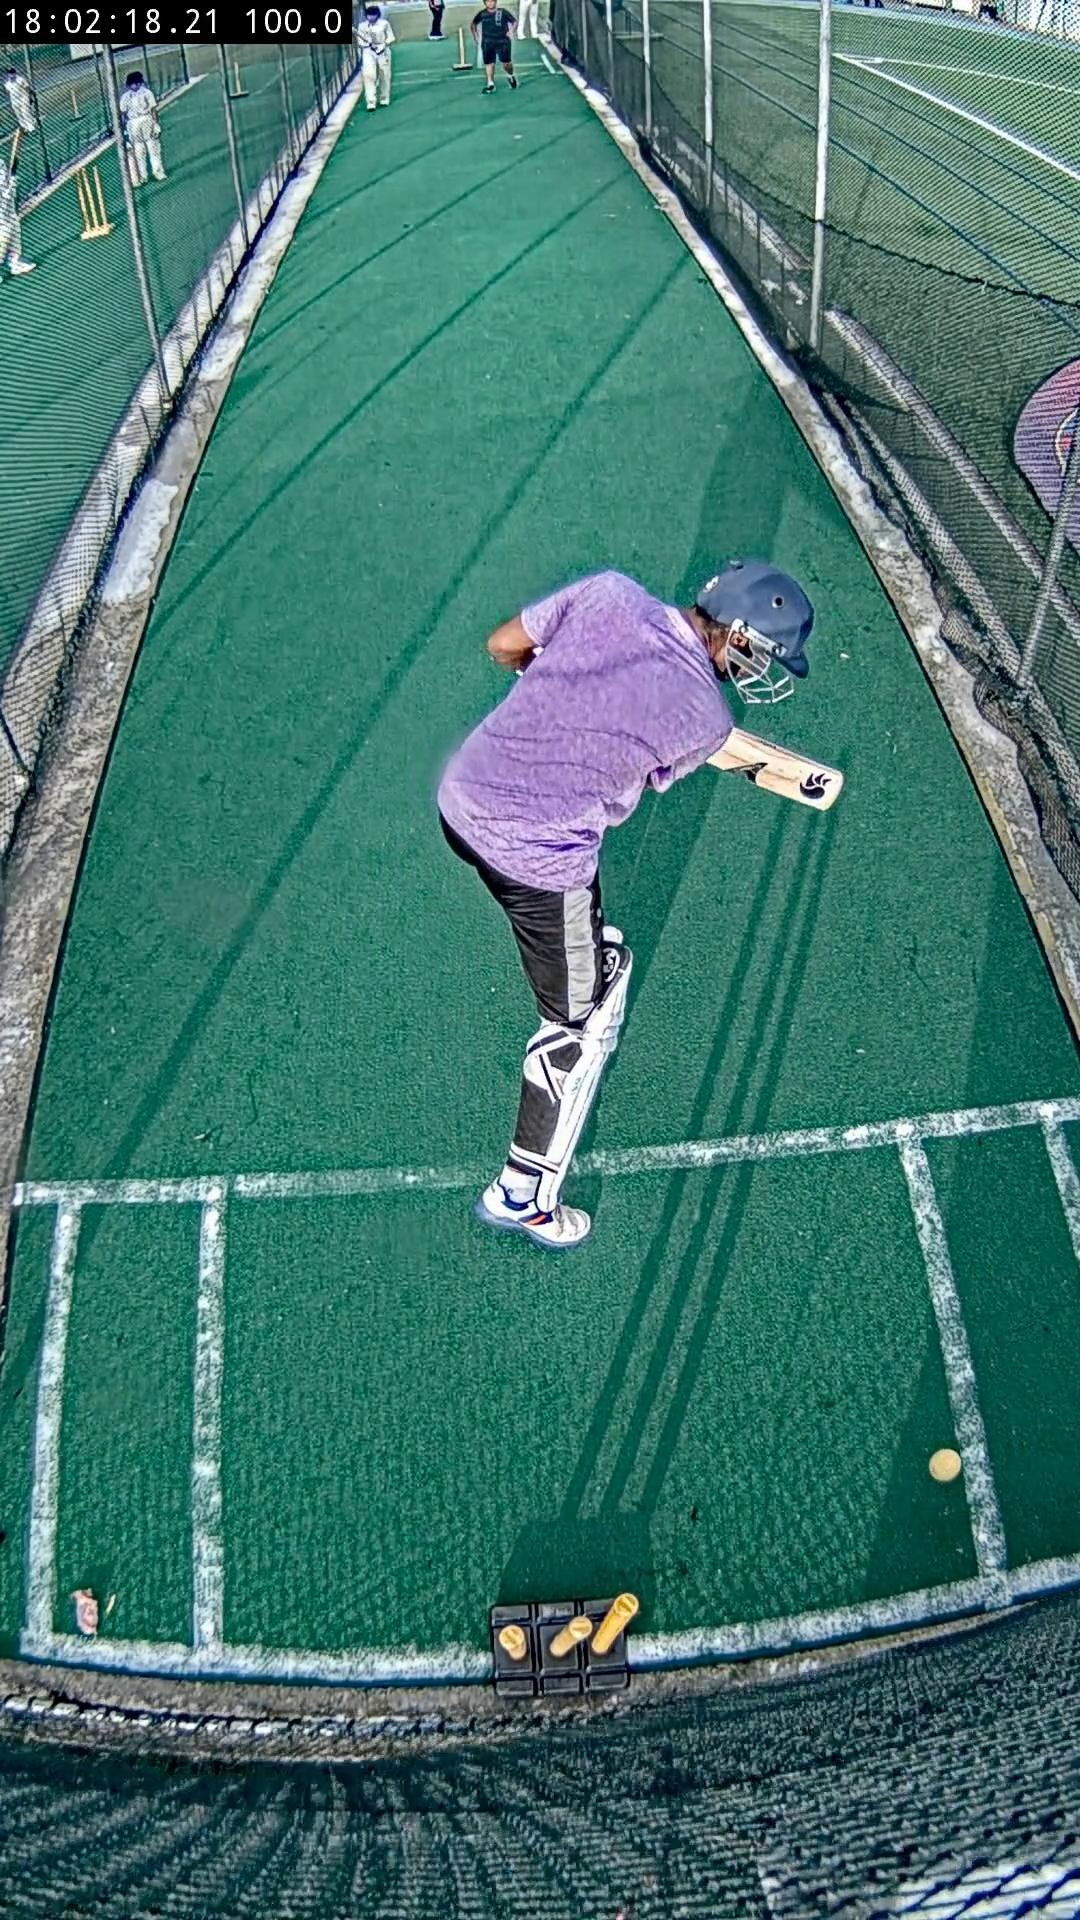ball: (930, 1448, 964, 1481)
bat: (708, 728, 844, 810)
helmet: (698, 559, 814, 705)
pads: (537, 945, 634, 1212)
stumps: (492, 1594, 641, 1698)
